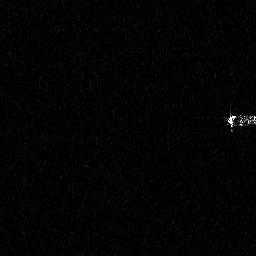ship: (221, 104, 256, 135)
